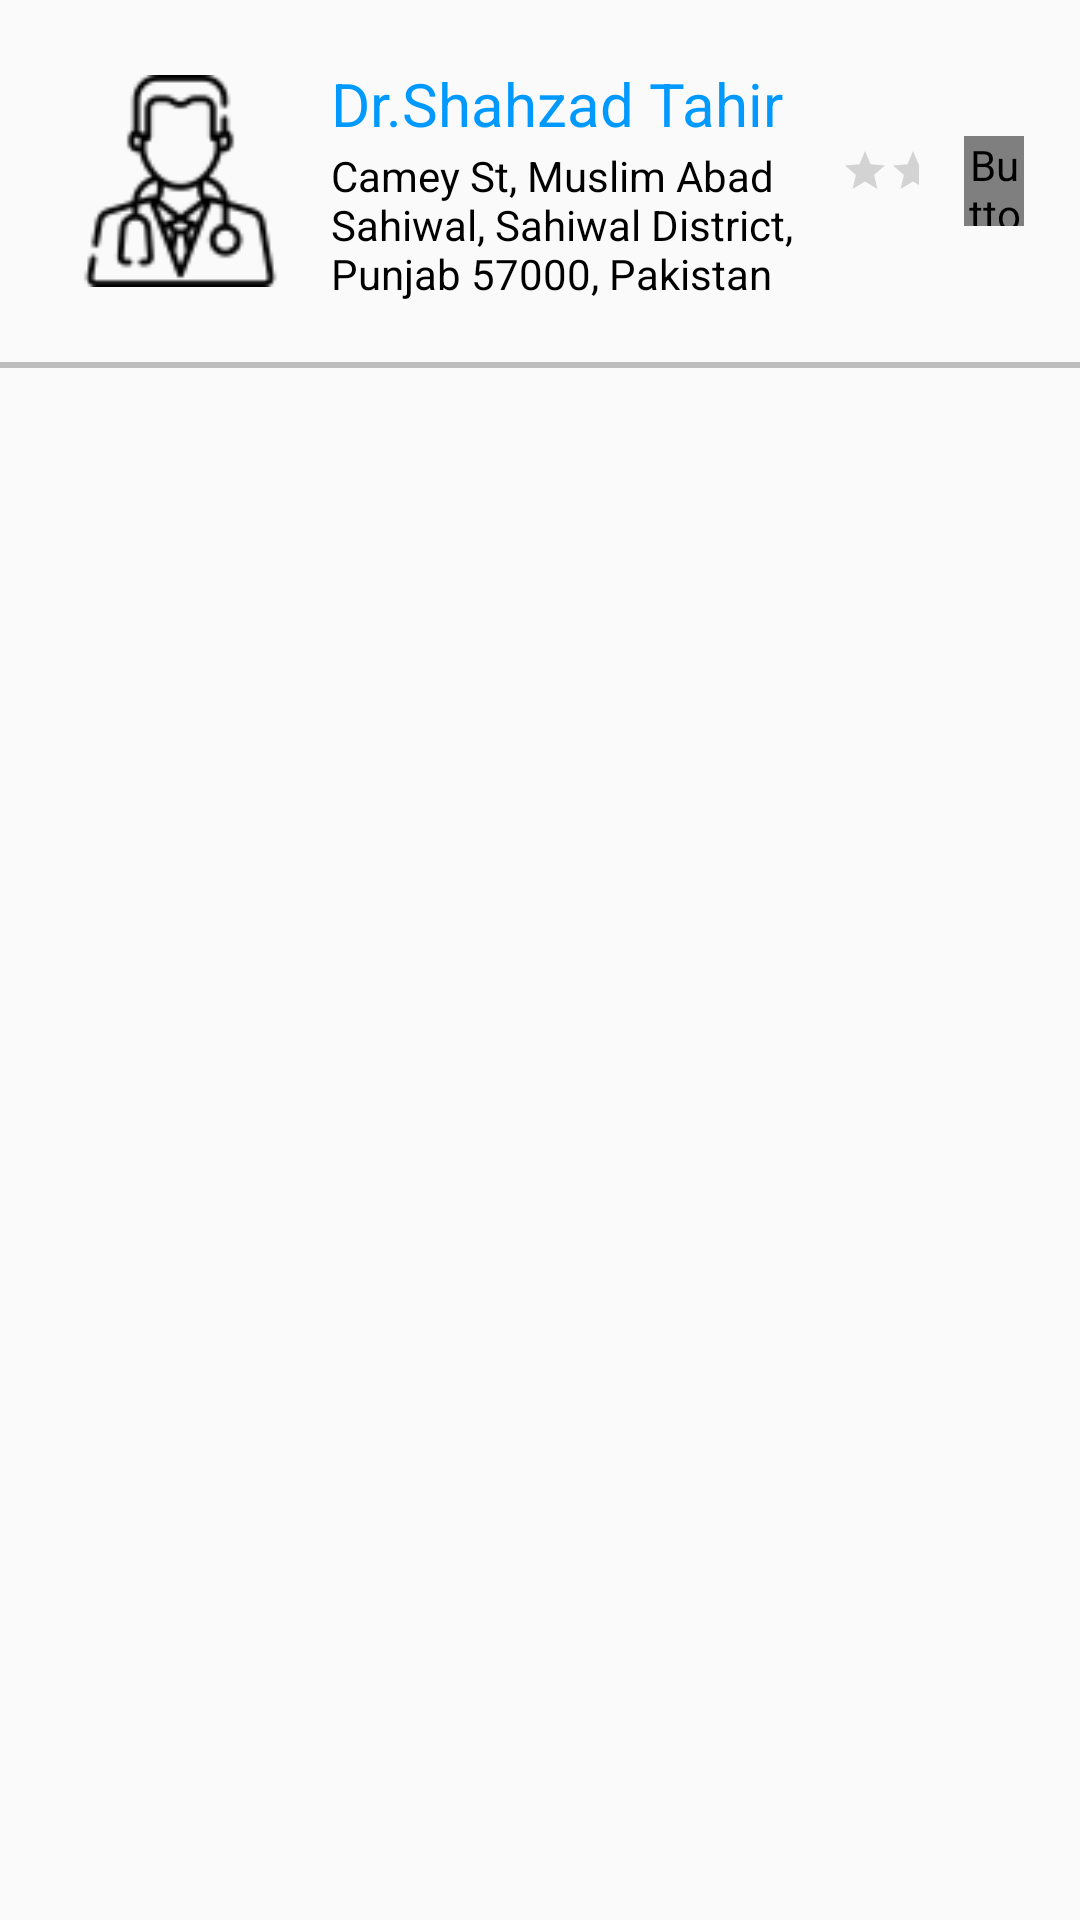

Where to tap for icons on this 1080px×1920px app screen, as point (x, y):
men doc: point (180, 181)
